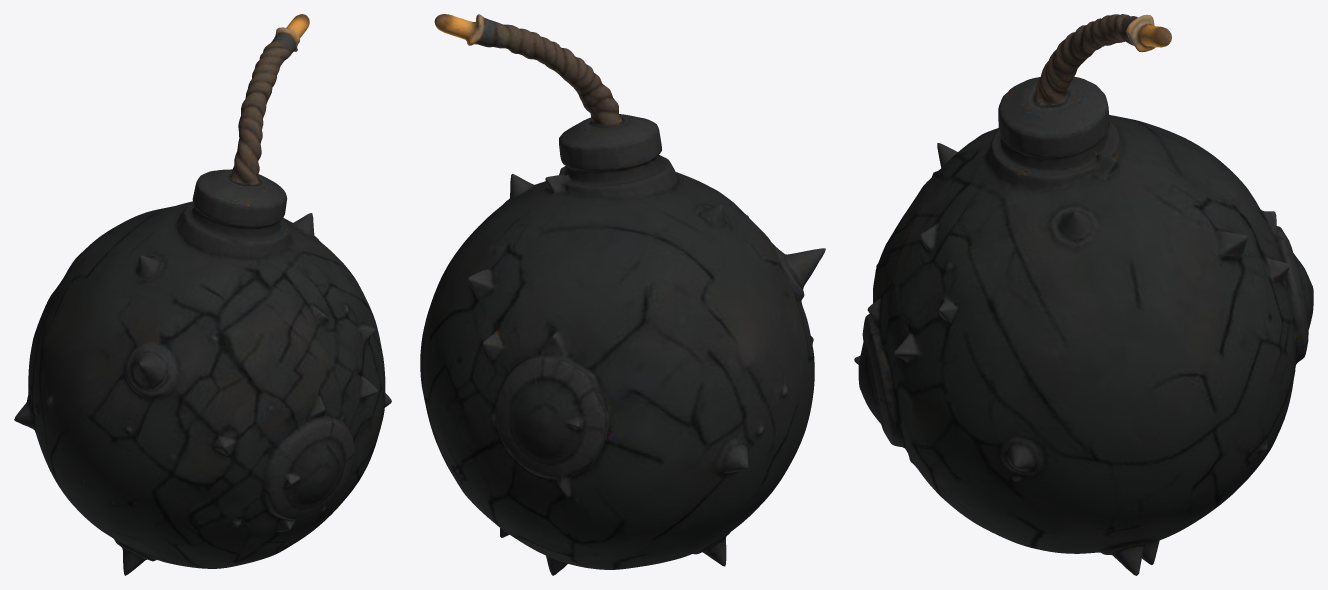
File: grunk_megabomb.glb
The picture shows the model from 3 angles, left to right: view 1: azimuth 30°, elevation 25°; view 2: azimuth 150°, elevation 25°; view 3: azimuth 270°, elevation 25°; orthographic projection. The views are drawn at different scales.
Size of the model in its own units: 0.6215 by 0.936 by 0.6579.
1 material, 1 textured.
